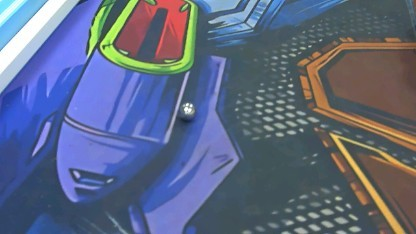ironball: (175, 99, 196, 122)
